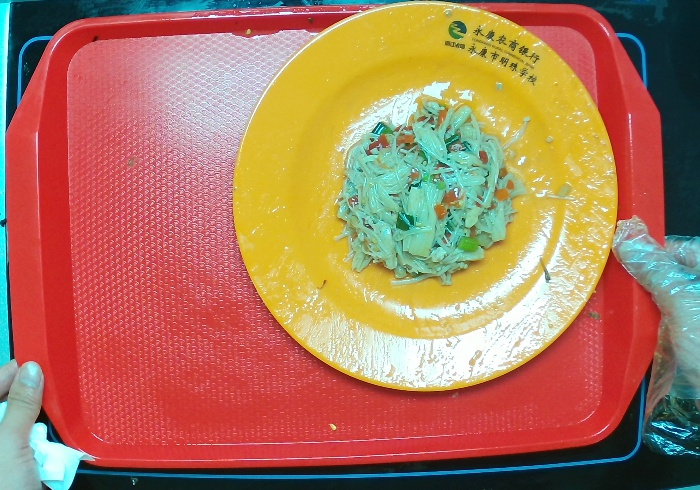YKMZ-Ju_Se_Mian_Pan: (229, 1, 619, 392)
